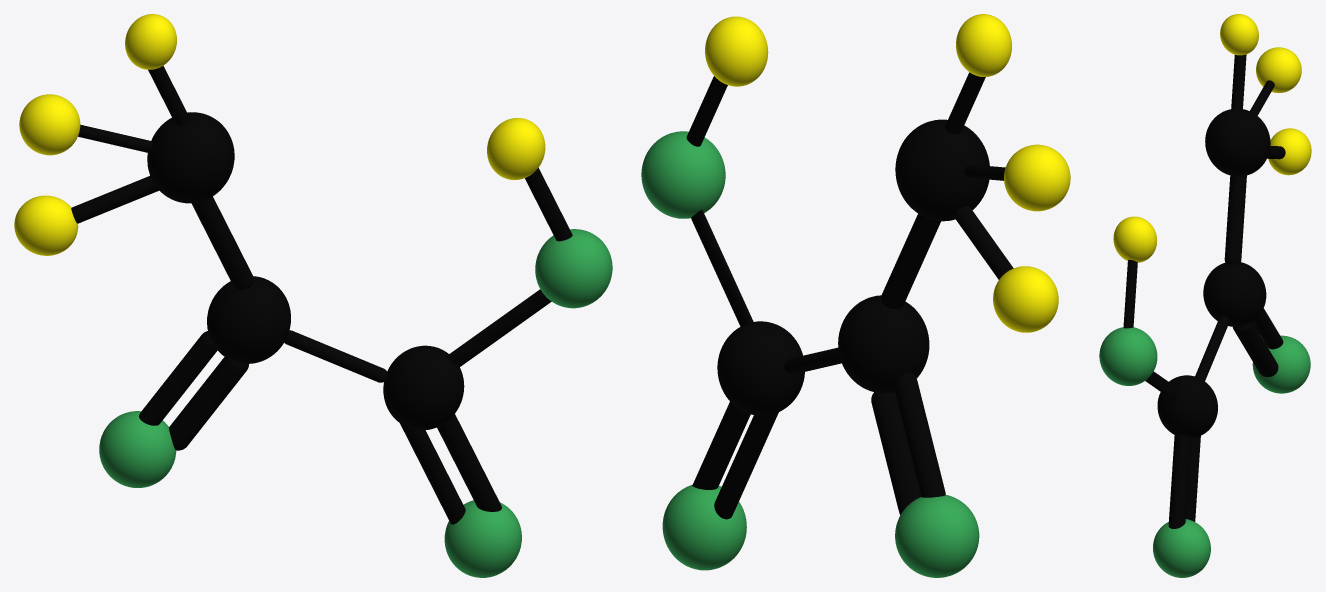
The picture shows the model from 3 angles, left to right: view 1: azimuth 30°, elevation 25°; view 2: azimuth 150°, elevation 25°; view 3: azimuth 270°, elevation 25°; orthographic projection. The views are drawn at different scales.
Parts seen in each view (by area): view 1: node_id34, node_id66, node_id70, node_id54, node_id60, node_id50, node_id40, node_id44, node_id52, node_id64, node_id62, node_id32 (+9 smaller); view 2: node_id34, node_id66, node_id70, node_id54, node_id60, node_id50, node_id44, node_id52, node_id40, node_id62, node_id64, node_id32 (+9 smaller); view 3: node_id34, node_id66, node_id70, node_id54, node_id50, node_id60, node_id48, node_id44, node_id52, node_id36, node_id40, node_id32 (+8 smaller).
Boxes of the visible parts, x1,y1,x2,y2 form: node_id34: [147, 112, 234, 203]; node_id66: [207, 276, 290, 363]; node_id70: [383, 345, 464, 430]; node_id54: [535, 229, 612, 308]; node_id60: [99, 411, 176, 487]; node_id50: [444, 500, 521, 577]; node_id40: [14, 195, 78, 255]; node_id44: [19, 94, 80, 155]; node_id52: [487, 118, 545, 179]; node_id64: [169, 357, 248, 450]; node_id62: [139, 331, 217, 425]; node_id32: [125, 14, 176, 69]; node_id34: [895, 119, 989, 221]; node_id66: [838, 295, 929, 393]; node_id70: [717, 321, 804, 415]; node_id54: [641, 131, 725, 218]; node_id60: [895, 495, 979, 577]; node_id50: [662, 484, 746, 570]; node_id44: [1004, 144, 1070, 211]; node_id52: [705, 16, 768, 86]; node_id40: [993, 266, 1058, 332]; node_id62: [893, 372, 945, 497]; node_id64: [871, 392, 921, 514]; node_id32: [956, 14, 1011, 76]; node_id34: [1205, 109, 1270, 176]; node_id66: [1203, 262, 1266, 326]; node_id70: [1157, 375, 1217, 438]; node_id54: [1099, 327, 1157, 385]; node_id50: [1153, 519, 1210, 577]; node_id60: [1252, 335, 1310, 393]; node_id48: [1168, 434, 1190, 528]; node_id44: [1256, 47, 1301, 92]; node_id52: [1113, 216, 1156, 262]; node_id36: [1224, 175, 1246, 264]; node_id40: [1268, 128, 1311, 175]; node_id32: [1220, 14, 1258, 55].
Bounding box in the file's own units: 0.3218 × 0.3829 × 0.1627.
Materials: 21 (10 with a texture image).
